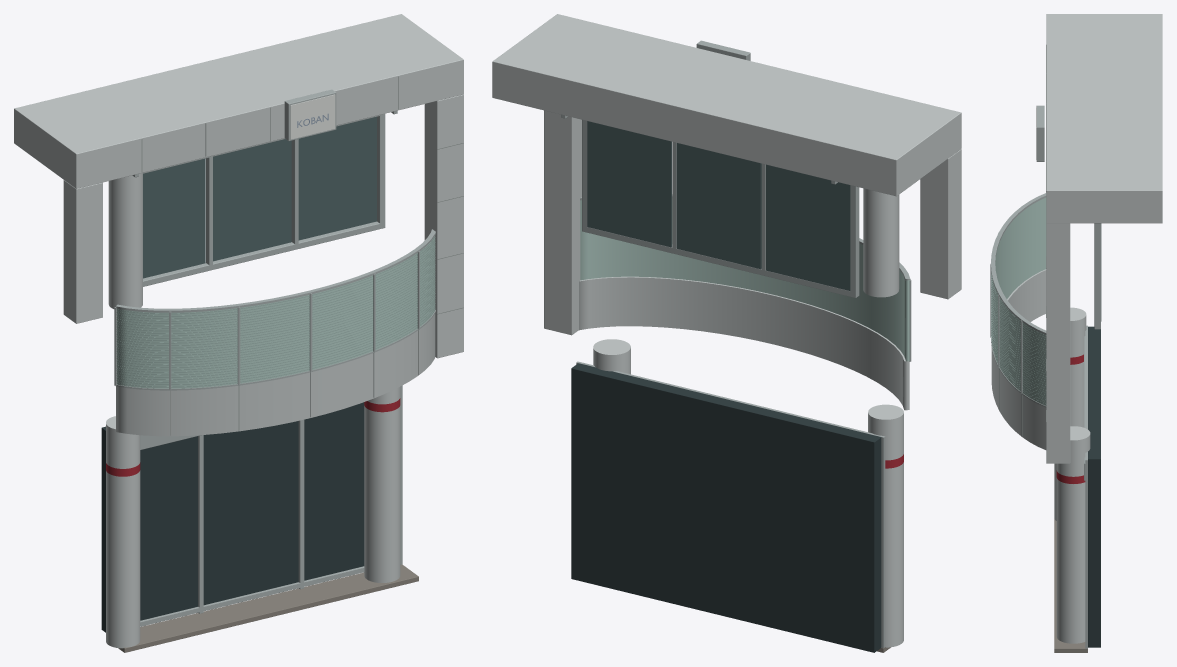
File: policebox_visible_facade_2025_v001.glb
3 renders of one model, left to right at view 1: azimuth 30°, elevation 25°; view 2: azimuth 150°, elevation 25°; view 3: azimuth 270°, elevation 25°, orthographic. The views are drawn at different scales.
Parts seen in each view (by area): view 1: 01 | Wide silver canopy, 40 | Estimated removable lower doorway backing, 11 | Bowed pale-green upper band, 10 | Bowed silver lower fascia, 02 | Right visible return, 32 | Flat upper aperture pane 1, 32 | Flat upper aperture pane 2, 32 | Flat upper aperture pane 0, 43 | Provisional masked threshold, 02 | Left upper return, 21 | Lower right support visible below red strip, 20 | Observed upper-left support (+15 smaller); view 2: 40 | Estimated removable lower doorway backing, 01 | Wide silver canopy, 10 | Bowed silver lower fascia, 11 | Bowed pale-green upper band, 32 | Flat upper aperture pane 1, 32 | Flat upper aperture pane 2, 32 | Flat upper aperture pane 0, 02 | Right visible return, 02 | Left upper return, 20 | Observed upper-left support, 24 | Lower left support crowd-hidden continuation, 30 | Upper aperture horizontal frame (+5 smaller); view 3: 01 | Wide silver canopy, 11 | Bowed pale-green upper band, 02 | Right visible return, 40 | Estimated removable lower doorway backing, 21 | Lower right support visible below red strip, 10 | Bowed silver lower fascia, 22 | Lower right support hidden foot continuation, 21 | Lower right support visible above red strip, 14 | Upper band perimeter rail, 23 | Lower left support visible above red strip, 30 | Upper aperture right jamb, 43 | Provisional masked threshold (+5 smaller).
Part boxes in pixels (bbox=[...]): 01 | Wide silver canopy: bbox=[14, 14, 463, 188]; 40 | Estimated removable lower doorway backing: bbox=[101, 402, 364, 632]; 11 | Bowed pale-green upper band: bbox=[117, 236, 435, 388]; 10 | Bowed silver lower fascia: bbox=[116, 313, 435, 436]; 02 | Right visible return: bbox=[424, 94, 463, 358]; 32 | Flat upper aperture pane 1: bbox=[213, 139, 291, 261]; 32 | Flat upper aperture pane 2: bbox=[298, 117, 376, 240]; 32 | Flat upper aperture pane 0: bbox=[143, 158, 205, 278]; 43 | Provisional masked threshold: bbox=[118, 564, 418, 652]; 02 | Left upper return: bbox=[63, 180, 102, 323]; 21 | Lower right support visible below red strip: bbox=[364, 406, 400, 544]; 20 | Observed upper-left support: bbox=[108, 173, 142, 308]; 40 | Estimated removable lower doorway backing: bbox=[571, 363, 881, 652]; 01 | Wide silver canopy: bbox=[492, 14, 961, 196]; 10 | Bowed silver lower fascia: bbox=[579, 277, 909, 410]; 11 | Bowed pale-green upper band: bbox=[580, 199, 909, 361]; 32 | Flat upper aperture pane 1: bbox=[676, 143, 761, 269]; 32 | Flat upper aperture pane 2: bbox=[587, 121, 671, 247]; 32 | Flat upper aperture pane 0: bbox=[766, 164, 850, 290]; 02 | Right visible return: bbox=[544, 110, 581, 335]; 02 | Left upper return: bbox=[920, 149, 961, 299]; 20 | Observed upper-left support: bbox=[863, 188, 899, 297]; 24 | Lower left support crowd-hidden continuation: bbox=[885, 511, 903, 647]; 30 | Upper aperture horizontal frame: bbox=[582, 227, 859, 297]; 01 | Wide silver canopy: bbox=[1046, 14, 1162, 223]; 11 | Bowed pale-green upper band: bbox=[992, 197, 1046, 405]; 02 | Right visible return: bbox=[1046, 223, 1070, 463]; 40 | Estimated removable lower doorway backing: bbox=[1088, 326, 1100, 647]; 21 | Lower right support visible below red strip: bbox=[1056, 478, 1085, 607]; 10 | Bowed silver lower fascia: bbox=[991, 270, 1046, 449]; 22 | Lower right support hidden foot continuation: bbox=[1056, 602, 1085, 643]; 21 | Lower right support visible above red strip: bbox=[1056, 426, 1090, 476]; 14 | Upper band perimeter rail: bbox=[991, 193, 1046, 334]; 23 | Lower left support visible above red strip: bbox=[1070, 307, 1086, 357]; 30 | Upper aperture right jamb: bbox=[1094, 223, 1100, 326]; 43 | Provisional masked threshold: bbox=[1054, 519, 1087, 652].
Bounding box in the file's own units: 5.2 × 6.64 × 2.15.
